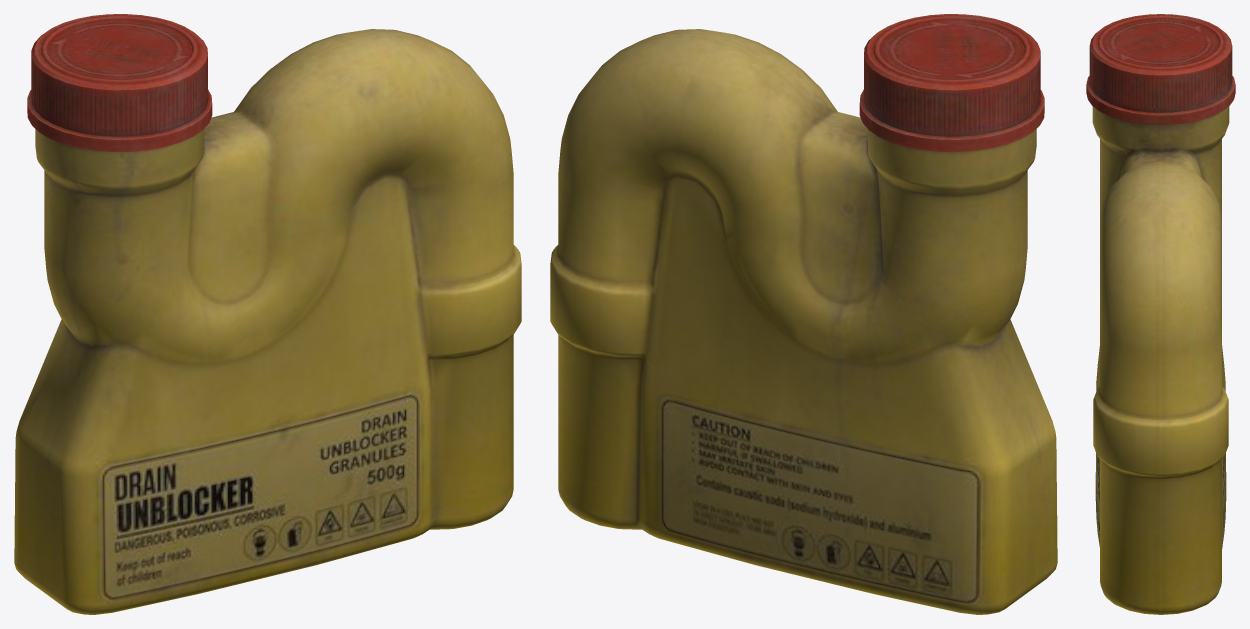
The model's file is drain_cleaner.glb.
The picture shows the model from 3 angles, left to right: view 1: azimuth 30°, elevation 25°; view 2: azimuth 150°, elevation 25°; view 3: azimuth 270°, elevation 25°; orthographic projection. The views are drawn at different scales.
Parts seen in each view (by area): view 1: drain_cleaner; view 2: drain_cleaner; view 3: drain_cleaner.
Part boxes in pixels (left/top/right/bottom): drain_cleaner: left=14, top=14, right=521, bottom=614; drain_cleaner: left=550, top=14, right=1057, bottom=614; drain_cleaner: left=1086, top=14, right=1235, bottom=614.
Size of the model in its own units: 0.1654 by 0.1786 by 0.0563.
Materials: 1 (1 with a texture image).
